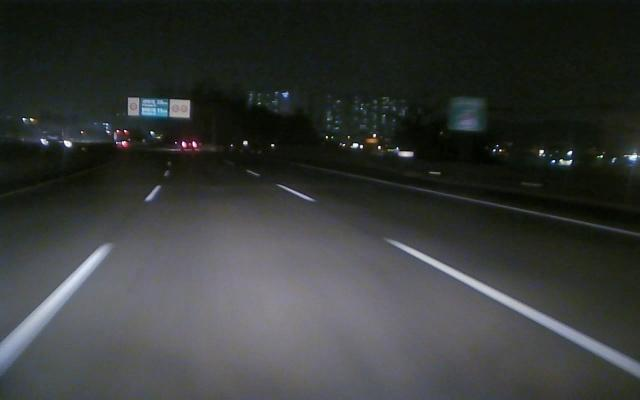lane: (272, 183, 637, 378), (3, 177, 166, 372), (366, 178, 637, 238)
